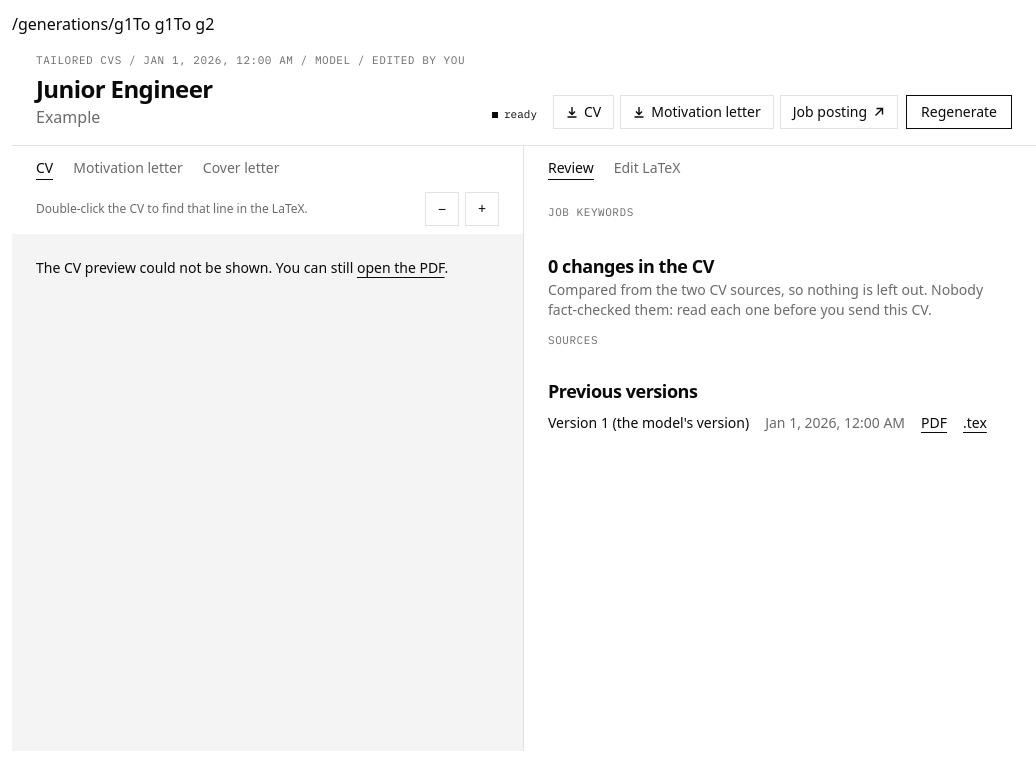
Test case: GenerationPage › asks for the CV source of the generation's current state
What coordinates should you click on to do the following:
click the tab "Edit LaTeX"
I would click on:
 (647, 168)
Its box is [614,158,680,180].
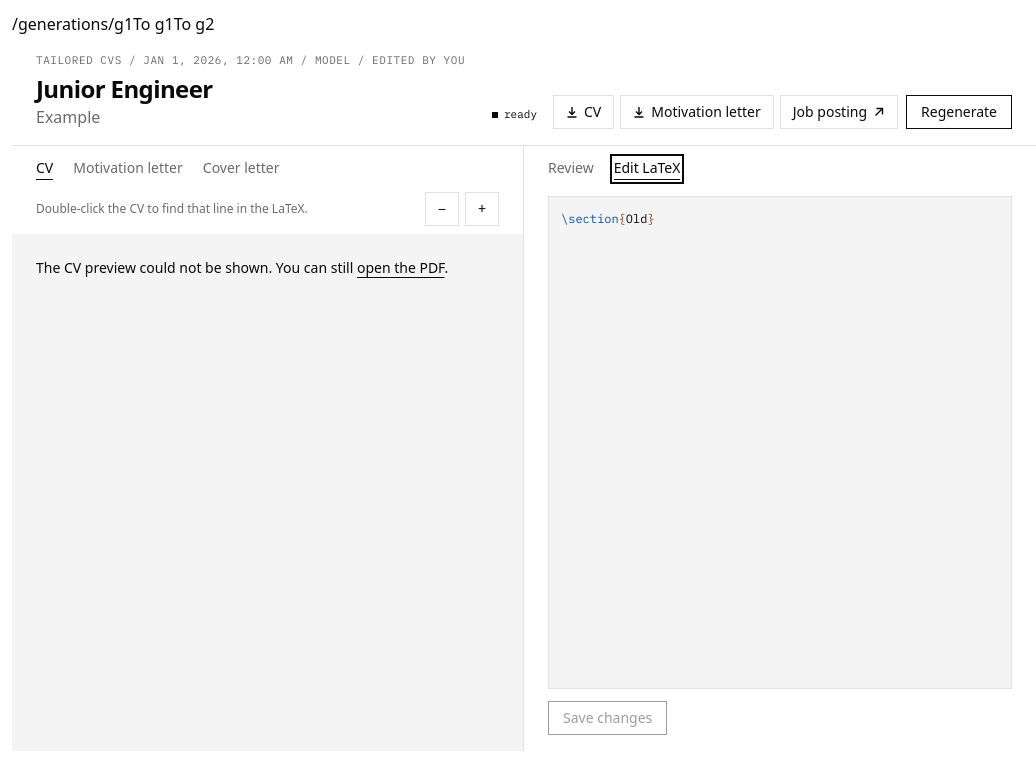
Now the text box named "CV LaTeX source" holds "\\section{Old}", box [549,196,1011,688]
